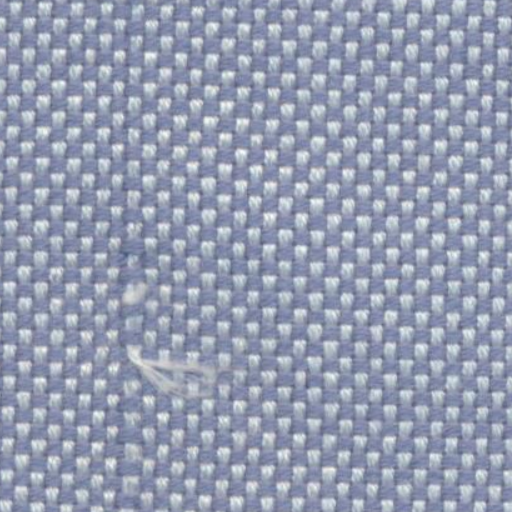DuanSha: (113, 322, 232, 408)
